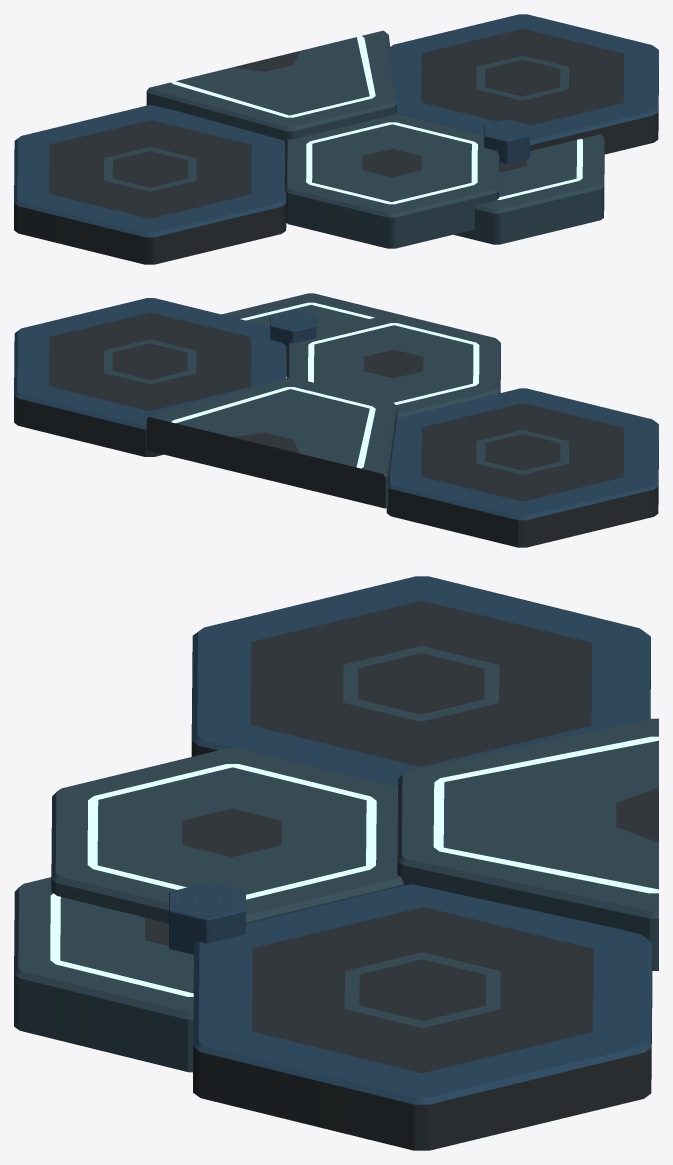
The model's file is Aero_Ground_Hexagons_01_Art.glb.
3 views of the same model, one above another, from view 1: azimuth 30°, elevation 25°; view 2: azimuth 150°, elevation 25°; view 3: azimuth 270°, elevation 25° (orthographic). The views are drawn at different scales.
Visible parts, largest first — view 1: Aero_Ground_Hexagons_01_Art; view 2: Aero_Ground_Hexagons_01_Art; view 3: Aero_Ground_Hexagons_01_Art.
Part boxes in pixels (bbox=[...]): Aero_Ground_Hexagons_01_Art: bbox=[14, 14, 658, 264]; Aero_Ground_Hexagons_01_Art: bbox=[14, 293, 658, 547]; Aero_Ground_Hexagons_01_Art: bbox=[14, 576, 658, 1150].
Size of the model in its own units: 19.48 by 2 by 10.09.
Materials: 4 (1 with a texture image).
